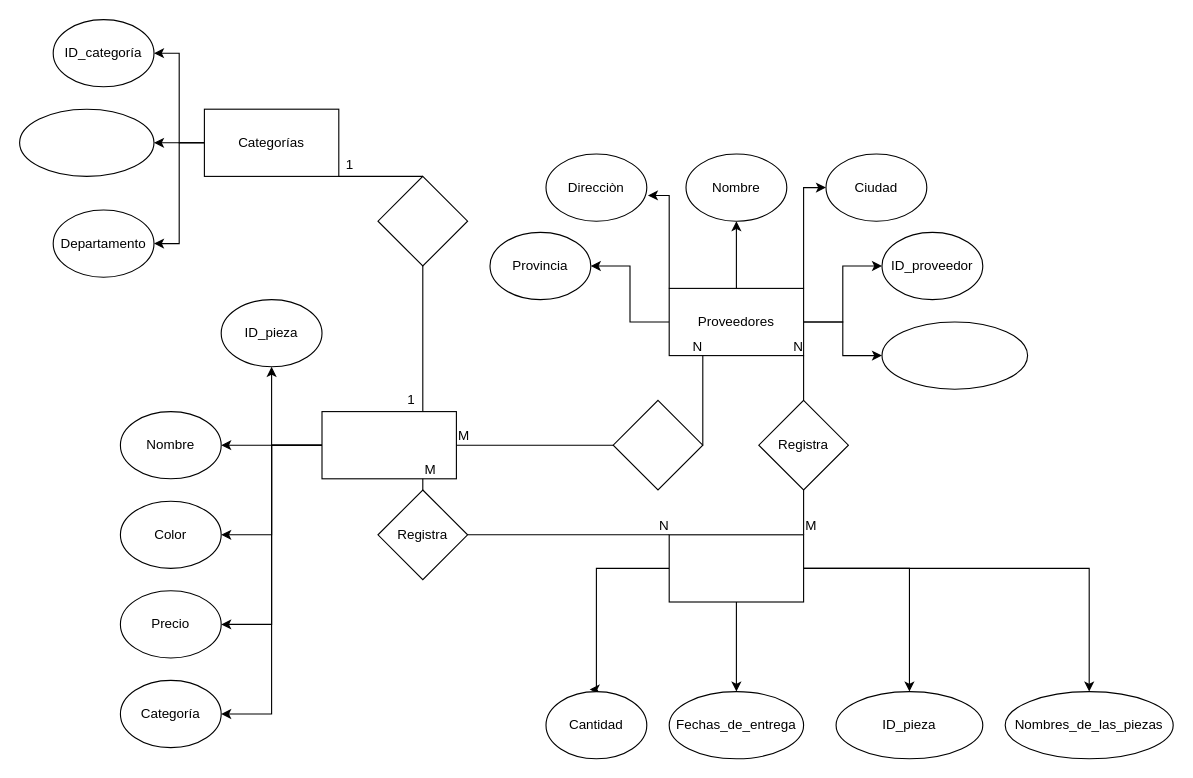
The diagram is 1193 pixels wide and 778 high, and some of its shapes have lost their labels. Each missing label, with the centre of its shape:
"Envía" belongs at [657,444].
"Fecha_de_entrega" belongs at [954,355].
"Histórico" belongs at [736,568].
"Nombre_categoría" belongs at [86,142].
"Pertenece" belongs at [422,220].
"Piezas" belongs at [388,444].
